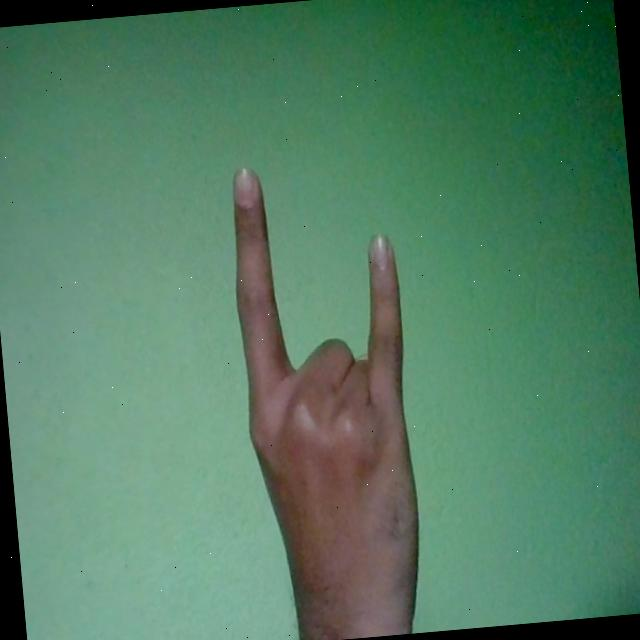open Plam: (223, 153, 430, 640)
